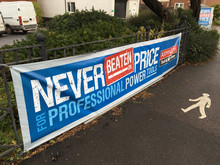vinyl banner: (6, 31, 188, 152)
